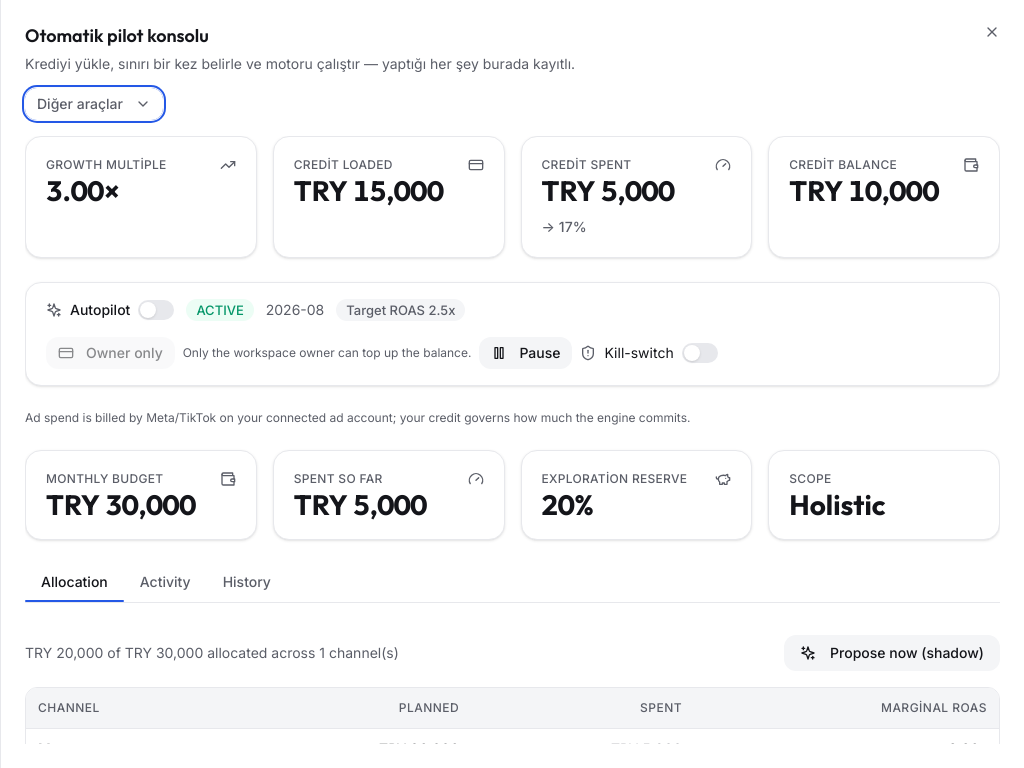
Test: StudioToolsDrawer › does not offer a REP the rows whose pages are manager-only
Click the button "Diğer araçlar" at (94,104), box [25,88,163,120]
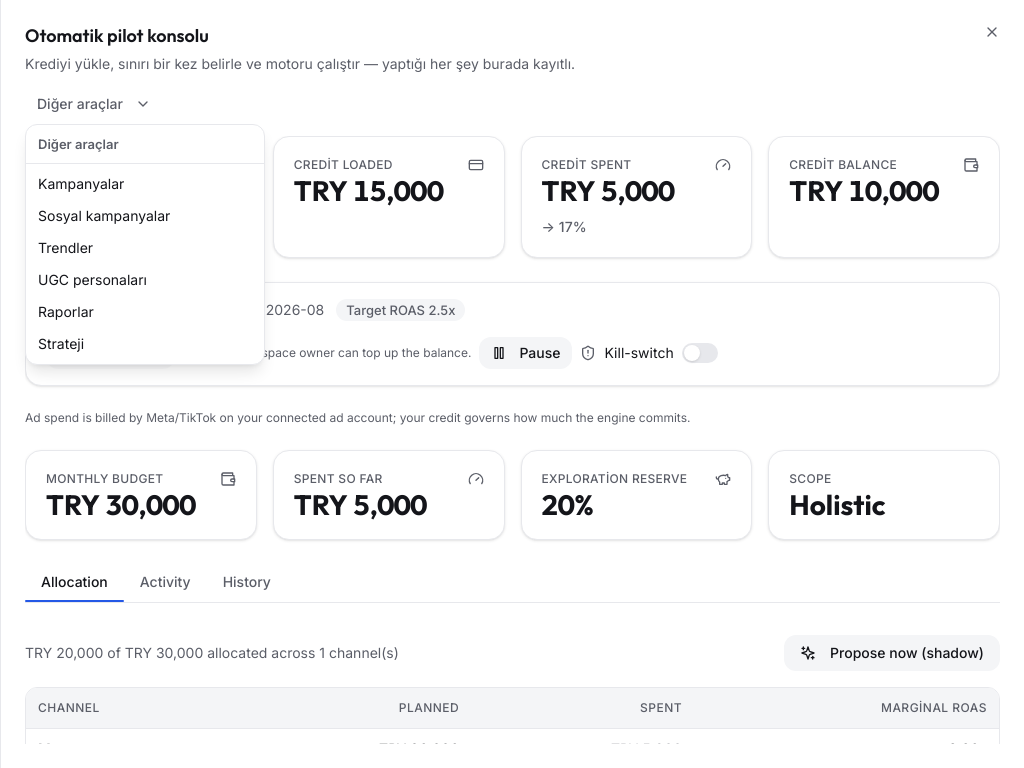
Now the menu item "Raporlar" is shown, box [38,303,94,320]
Now the menu item "Strateji" is shown, box [38,335,84,352]
Now the menu item "Trendler" is shown, box [38,239,93,256]
